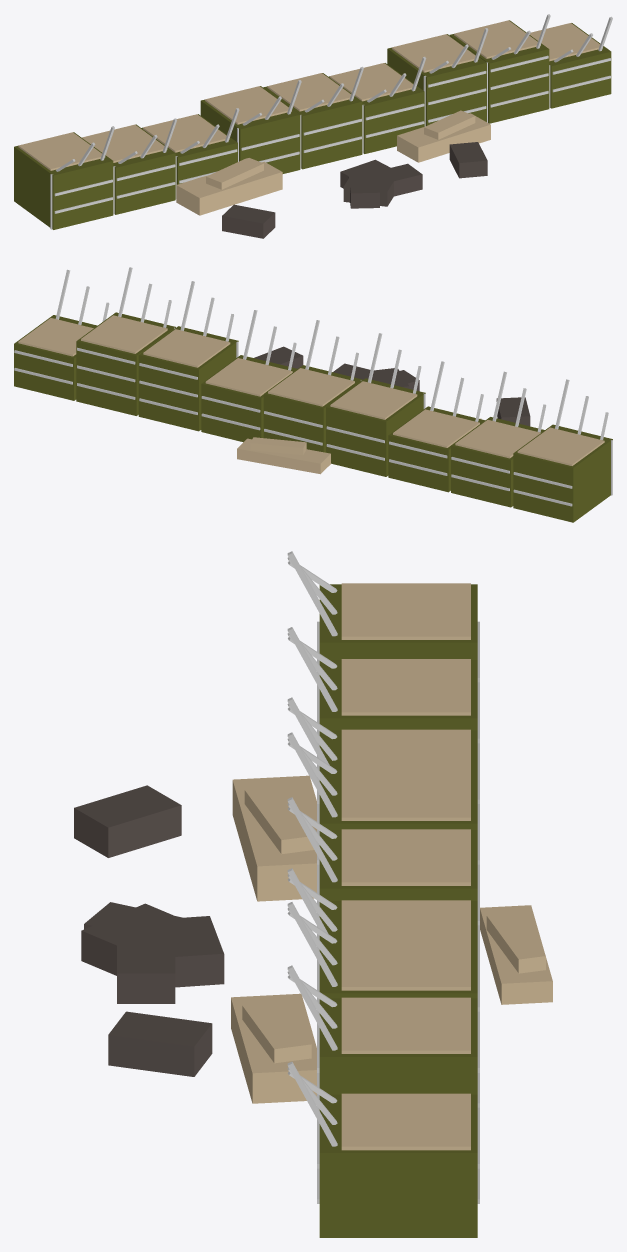
Rendered from SM_MuroHesco_v1_Geotextil_e2_MuyDanado_LOD0.fbx.
3 renders of one model, top to bottom at view 1: azimuth 30°, elevation 25°; view 2: azimuth 150°, elevation 25°; view 3: azimuth 270°, elevation 25°, orthographic. The views are drawn at different scales.
Parts seen in each view (by area): view 1: SM_bloques.muro_hesco_estados_v6_LOD0; view 2: SM_bloques.muro_hesco_estados_v6_LOD0; view 3: SM_bloques.muro_hesco_estados_v6_LOD0.
Part boxes in pixels (x1,y1,x2,y2): SM_bloques.muro_hesco_estados_v6_LOD0: (14,14,612,238); SM_bloques.muro_hesco_estados_v6_LOD0: (14,267,612,522); SM_bloques.muro_hesco_estados_v6_LOD0: (74,551,552,1237).
Size of the model in its own units: 9.98 by 1.76 by 3.7.
